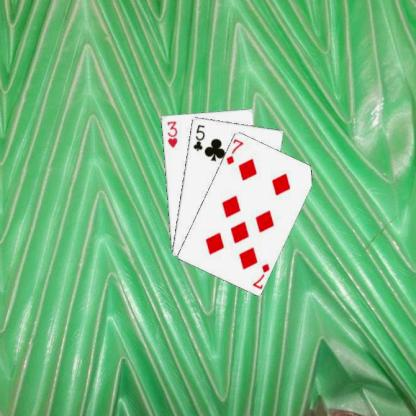3H: (165, 119, 178, 148)
5C: (190, 122, 206, 152)
7D: (224, 136, 244, 166), (250, 260, 270, 289)
